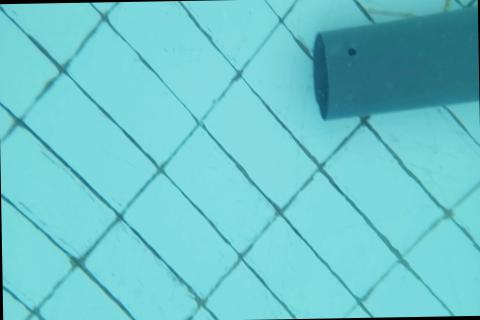kebocoran: (346, 45, 356, 58)
